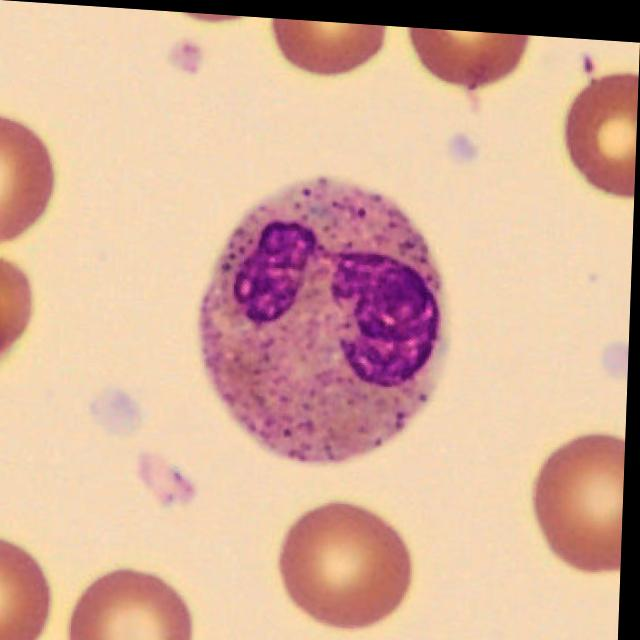Neutrofilo segmentado: (200, 169, 453, 458)
